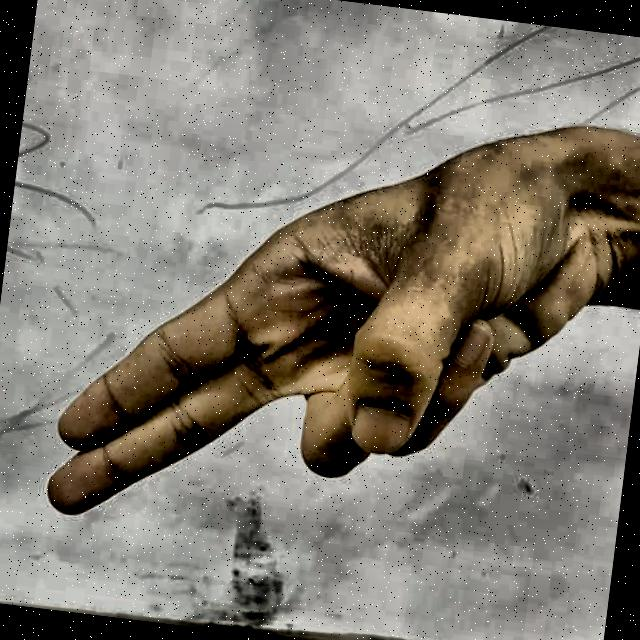Ha: (32, 50, 630, 616)
